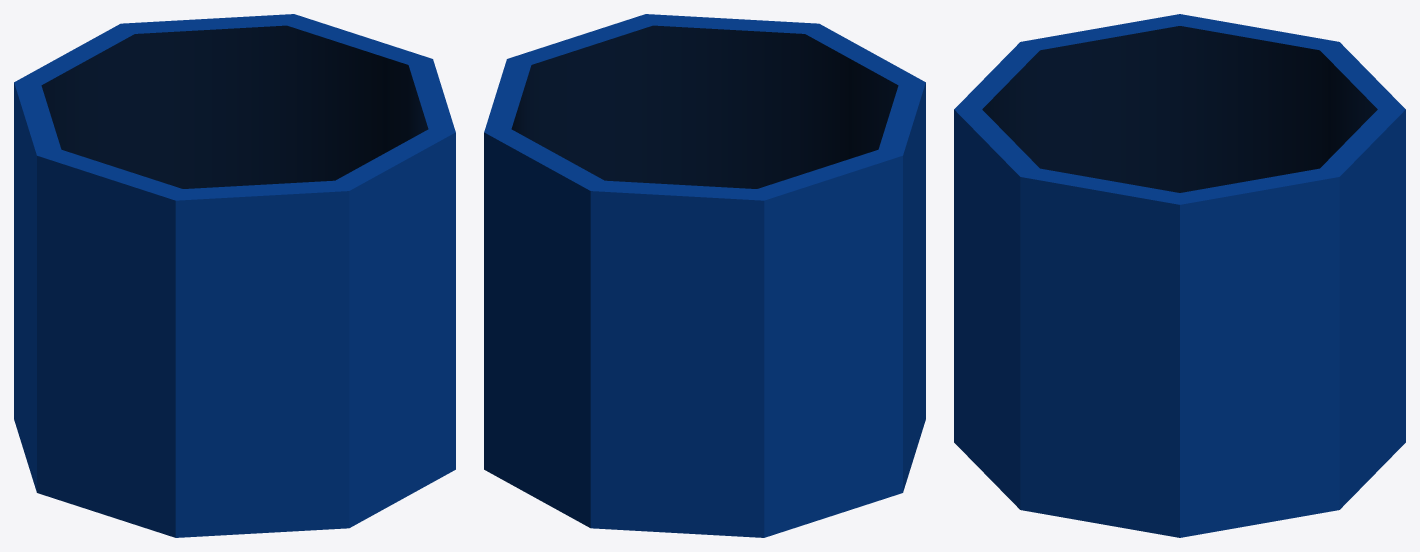
The model's file is pencilHolder.fbx.
3 views of the same model, side by side, from view 1: azimuth 30°, elevation 25°; view 2: azimuth 150°, elevation 25°; view 3: azimuth 270°, elevation 25° (orthographic).
Visible parts, largest first — view 1: Cylinder, Cylinder_1; view 2: Cylinder, Cylinder_1; view 3: Cylinder, Cylinder_1.
Part boxes in pixels (x1,y1,x2,y2): Cylinder: (14,14,455,537); Cylinder_1: (41,25,428,188); Cylinder: (484,14,925,537); Cylinder_1: (511,25,898,188); Cylinder: (954,14,1405,537); Cylinder_1: (982,26,1377,192).
Size of the model in its own units: 225 by 183 by 225.
